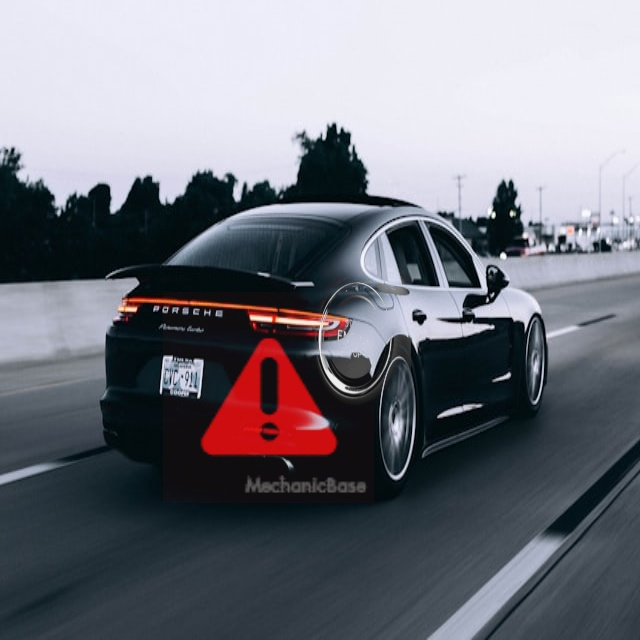symbol: (163, 292, 374, 503), (269, 269, 411, 411)
